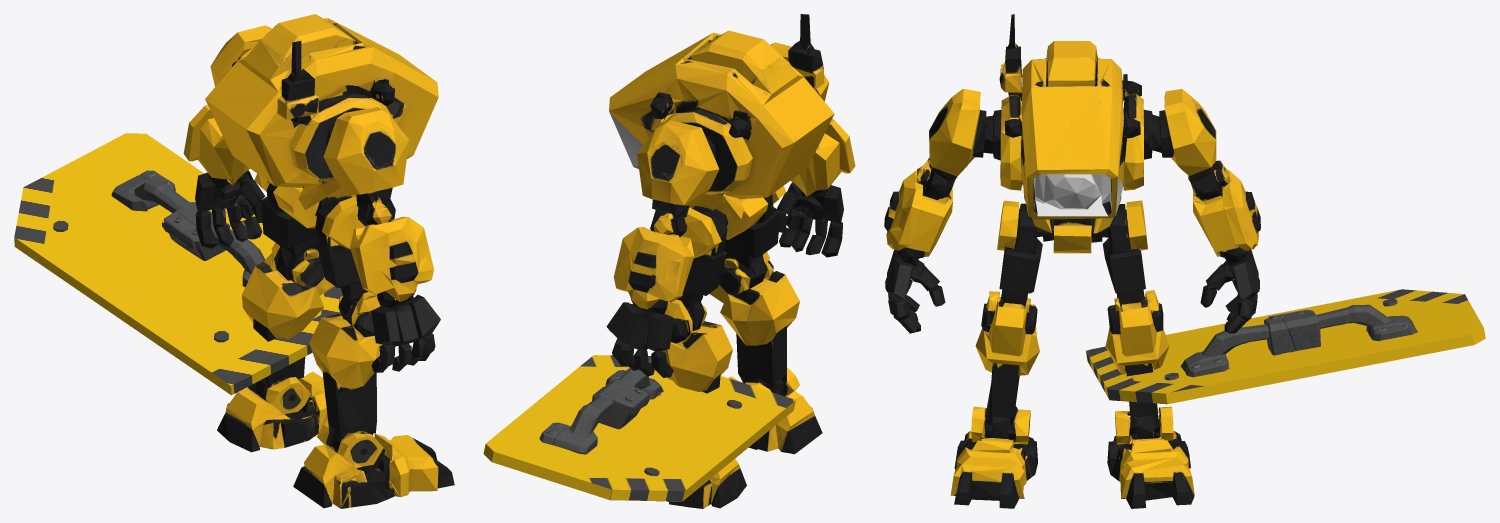
File: SM_ShieldChaserV2_Meshy_Anim.fbx
The picture shows the model from 3 angles, left to right: view 1: azimuth 30°, elevation 25°; view 2: azimuth 150°, elevation 25°; view 3: azimuth 270°, elevation 25°; orthographic projection. The views are drawn at different scales.
Visible parts, largest first — view 1: Shield, HeadTorso, ShinFoot_R, ShinFoot_L, ForearmHand_R, UpperArm_R, ForearmHand_L, Thigh_R, Thigh_L, UpperArm_L, Pelvis; view 2: Shield, HeadTorso, ShinFoot_R, ForearmHand_L, ShinFoot_L, ForearmHand_R, UpperArm_L, Thigh_L, Thigh_R, Pelvis; view 3: Shield, HeadTorso, ShinFoot_R, ShinFoot_L, ForearmHand_R, ForearmHand_L, UpperArm_L, UpperArm_R, Thigh_R, Thigh_L, Pelvis.
Part boxes in pixels (x1,y1,x2,y2): Shield: (14, 133, 342, 395); HeadTorso: (205, 14, 438, 191); ShinFoot_R: (293, 286, 454, 508); ShinFoot_L: (217, 239, 334, 452); ForearmHand_R: (350, 214, 440, 372); UpperArm_R: (323, 107, 409, 222); ForearmHand_L: (183, 105, 265, 248); Thigh_R: (298, 185, 364, 289); Thigh_L: (254, 173, 318, 248); UpperArm_L: (210, 25, 271, 86); Pelvis: (273, 186, 356, 228); Shield: (483, 355, 795, 501); HeadTorso: (609, 14, 834, 202); ShinFoot_R: (709, 248, 822, 454); ForearmHand_L: (606, 224, 694, 377); ShinFoot_L: (662, 294, 746, 508); ForearmHand_R: (777, 118, 855, 257); UpperArm_L: (637, 120, 719, 232); Thigh_L: (681, 197, 744, 297); Thigh_R: (724, 186, 786, 257); Pelvis: (689, 197, 768, 239); Shield: (1085, 289, 1485, 404); HeadTorso: (993, 14, 1151, 219); ShinFoot_R: (950, 291, 1039, 508); ShinFoot_L: (1105, 290, 1194, 508); ForearmHand_R: (884, 170, 952, 333); ForearmHand_L: (1193, 170, 1260, 333); UpperArm_L: (1151, 89, 1227, 194); UpperArm_R: (917, 89, 993, 194); Thigh_R: (997, 200, 1051, 295); Thigh_L: (1098, 200, 1147, 295); Pelvis: (1047, 218, 1097, 253).
Size of the model in its own units: 66.12 by 123 by 156.
